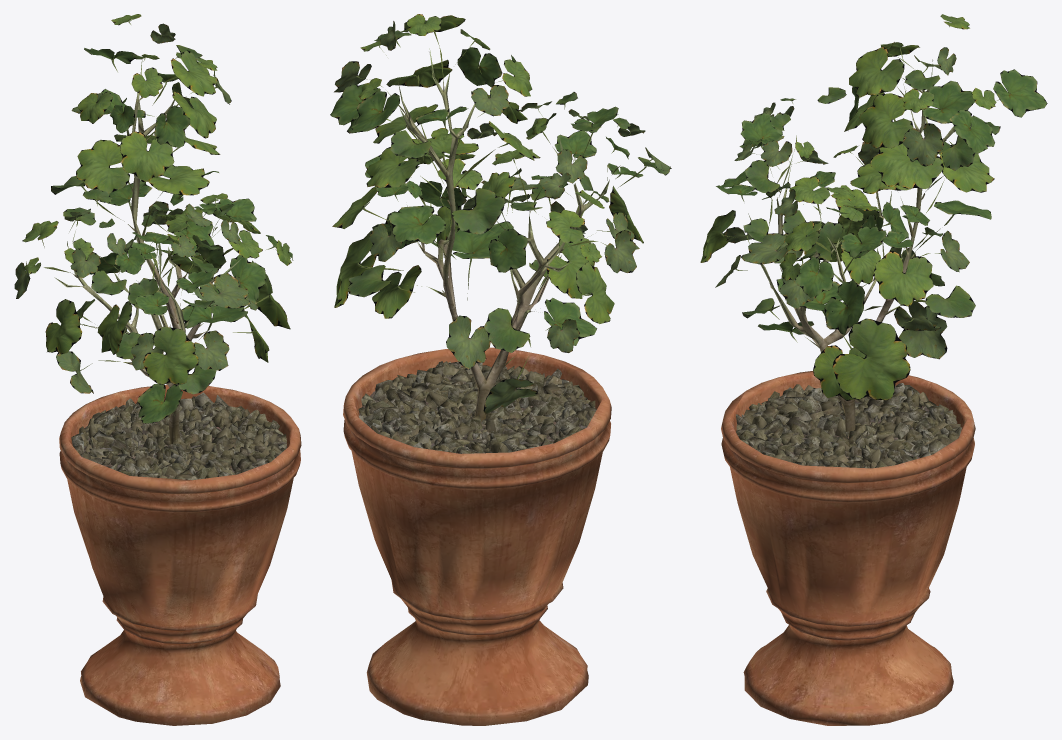
File: ph-potted-plant-01.glb
3 views of the same model, side by side, from view 1: azimuth 30°, elevation 25°; view 2: azimuth 150°, elevation 25°; view 3: azimuth 270°, elevation 25° (orthographic). The views are drawn at different scales.
Parts seen in each view (by area): view 1: potted_plant_01_stem, potted_plant_01_leaves; view 2: potted_plant_01_stem, potted_plant_01_leaves; view 3: potted_plant_01_stem, potted_plant_01_leaves.
Part boxes in pixels (bbox=[...]): potted_plant_01_stem: bbox=[54, 58, 301, 725]; potted_plant_01_leaves: bbox=[14, 14, 293, 423]; potted_plant_01_stem: bbox=[343, 48, 611, 725]; potted_plant_01_leaves: bbox=[330, 14, 671, 414]; potted_plant_01_stem: bbox=[721, 59, 975, 725]; potted_plant_01_leaves: bbox=[700, 14, 1047, 400].
Bounding box in the file's own units: 0.5866 × 1.34 × 0.6336.
Materials: 2 (2 with a texture image).
